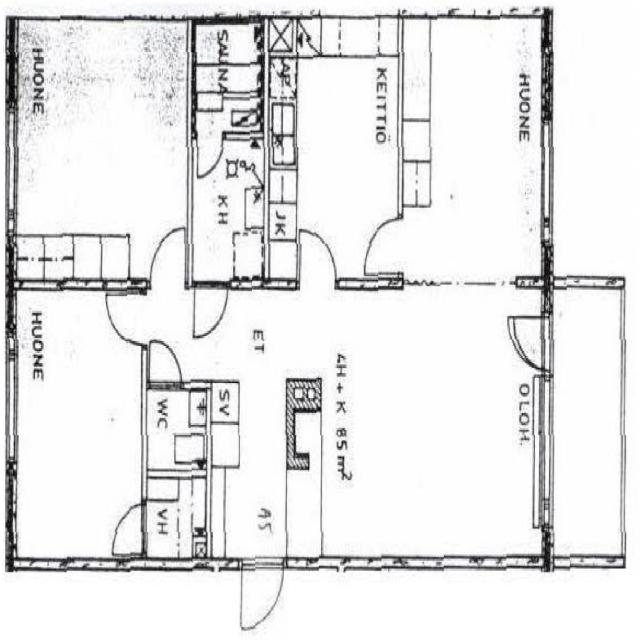door: (241, 558, 282, 634), (506, 317, 554, 369), (299, 223, 335, 290), (150, 226, 185, 290), (362, 218, 402, 272), (195, 278, 227, 339), (109, 504, 147, 553), (110, 295, 147, 344), (150, 332, 181, 388), (198, 131, 222, 176)
